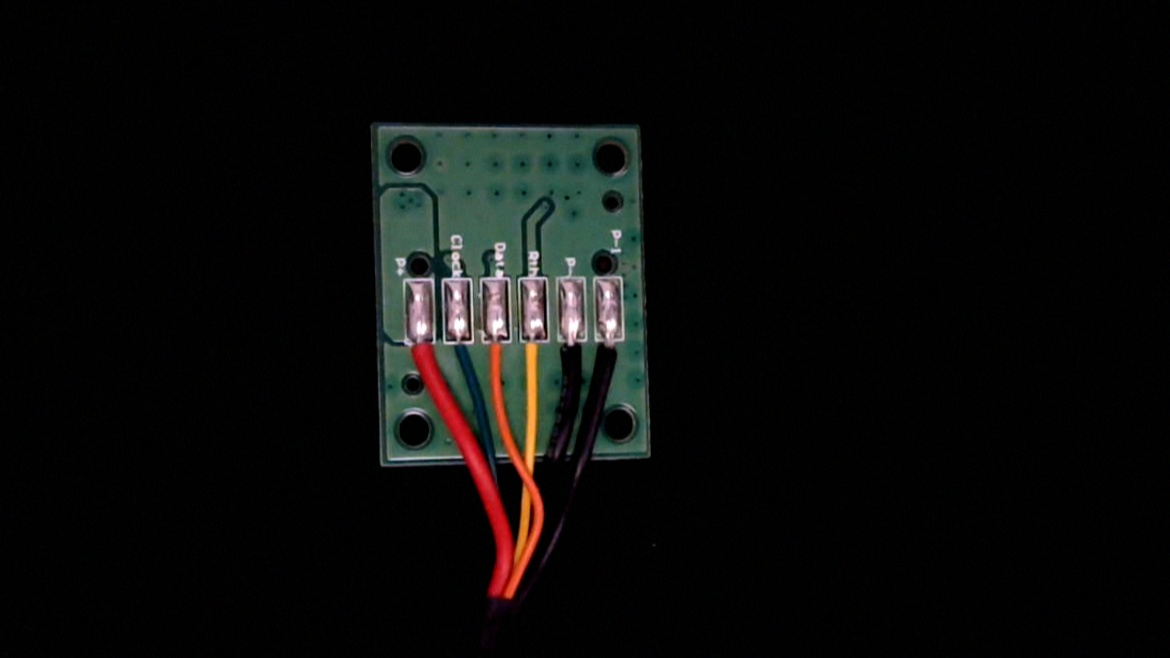Black: (556, 326, 590, 401)
Black1: (597, 320, 629, 389)
Green: (442, 324, 477, 392)
Orange: (481, 326, 514, 400)
Red: (405, 326, 439, 399)
Yellow: (520, 323, 554, 399)
